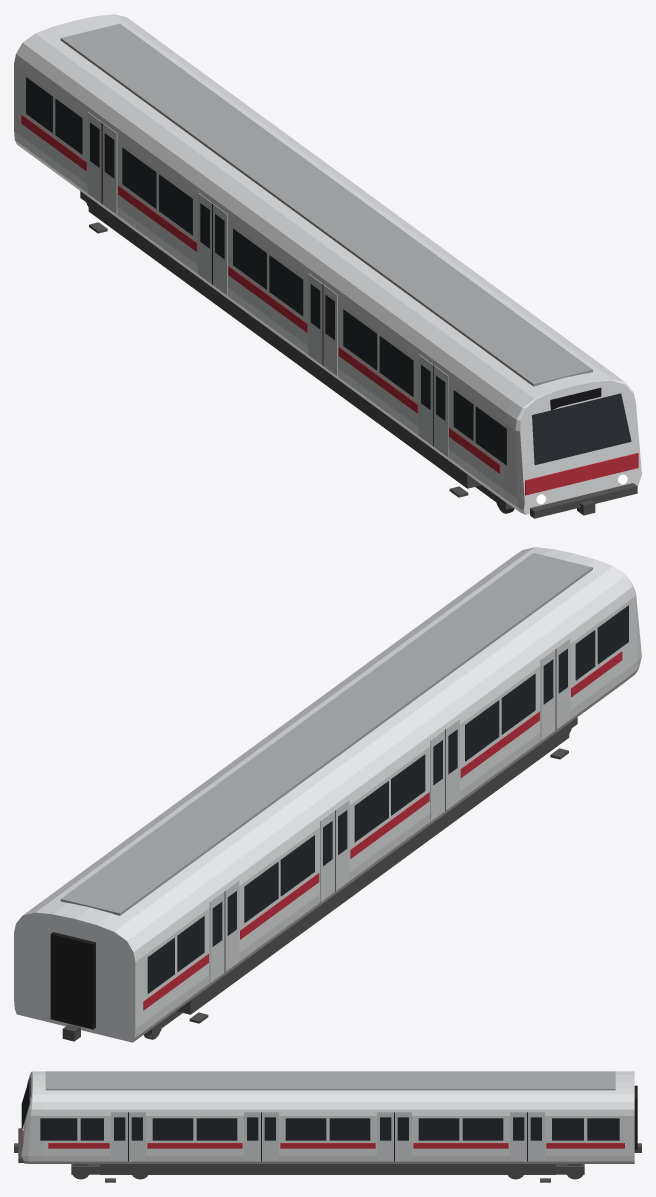
File: tr_cab.glb
3 views of the same model, one above another, from view 1: azimuth 30°, elevation 25°; view 2: azimuth 150°, elevation 25°; view 3: azimuth 270°, elevation 25° (orthographic). The views are drawn at different scales.
Parts seen in each view (by area): view 1: tr_cab; view 2: tr_cab; view 3: tr_cab.
Boxes of the visible parts, bbox=[...] form: tr_cab: bbox=[14, 14, 641, 518]; tr_cab: bbox=[14, 547, 641, 1042]; tr_cab: bbox=[14, 1071, 641, 1182].
Size of the model in its own units: 3.17 by 3.68 by 23.25.
